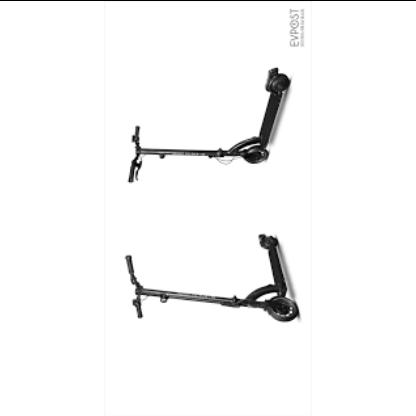bike: (125, 234, 300, 324)
